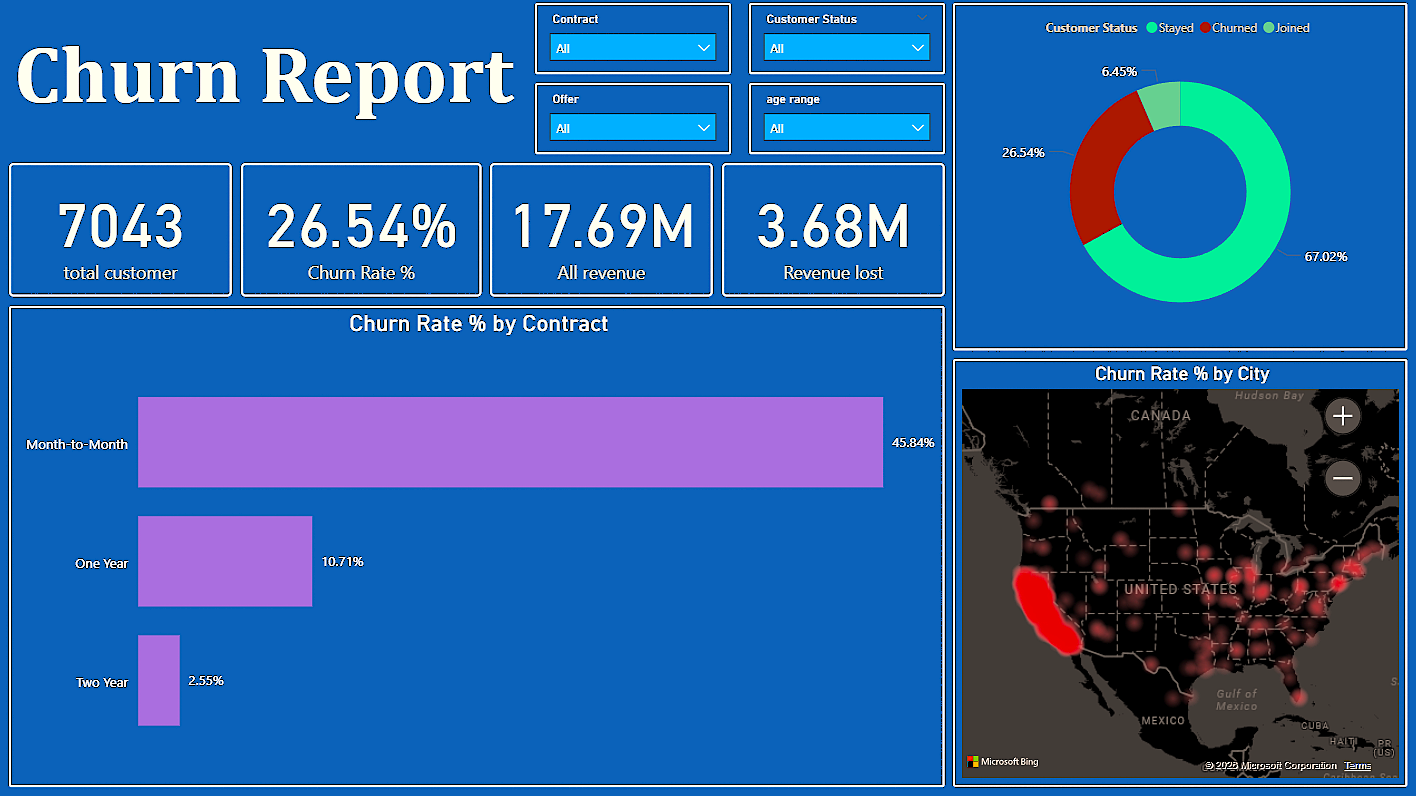

This screenshot's page, from the dashboard's own definition file:
{"tool":"powerbi","page":{"name":"Executive overview","canvas":[1280,720],"ordinal":0},"visuals":[{"type":"card","fields":{"Values":["telecom_customer_churn.total customer"]},"box":[8,152,200,120],"z":0},{"type":"card","fields":{"Values":["telecom_customer_churn.Churn Rate %"]},"box":[216,152,216,120],"z":1000},{"type":"card","fields":{"Values":["telecom_customer_churn.All revenue"]},"box":[440,152,200,120],"z":2000},{"type":"card","fields":{"Values":["telecom_customer_churn.Revenue lost"]},"box":[648,152,200,120],"z":3000},{"type":"donutChart","fields":{"Category":["telecom_customer_churn.Customer Status"],"Y":["telecom_customer_churn.total customer"]},"box":[856,8,408,312],"z":4000},{"type":"barChart","fields":{"Category":["telecom_customer_churn.Contract"],"Y":["telecom_customer_churn.Churn Rate %"]},"box":[8,280,840,432],"z":5000},{"type":"map","fields":{"Category":["telecom_customer_churn.City"],"Size":["telecom_customer_churn.Churn Rate %"]},"box":[856,328,408,384],"z":6000},{"type":"slicer","fields":{"Values":["telecom_customer_churn.Customer Status"]},"box":[672,8,176,64],"z":7000},{"type":"slicer","fields":{"Values":["telecom_customer_churn.Contract"]},"box":[480,8,176,64],"z":8000},{"type":"slicer","fields":{"Values":["telecom_customer_churn.Offer"]},"box":[480,80,176,64],"z":9000},{"type":"slicer","fields":{"Values":["telecom_customer_churn.age range"]},"box":[672,80,176,64],"z":10000},{"type":"textbox","box":[8,24,464,112],"z":11000}]}

Visuals, with their boxes in screenshot pixels (x1, y1, x2, y2), scaled from the page's 1280x720 canvas onto the 1416x796 screenshot:
card - telecom_customer_churn.total customer: locate(9, 168, 230, 301)
card - telecom_customer_churn.Churn Rate %: locate(239, 168, 478, 301)
card - telecom_customer_churn.All revenue: locate(487, 168, 708, 301)
card - telecom_customer_churn.Revenue lost: locate(717, 168, 938, 301)
donutChart - telecom_customer_churn.Customer Status x telecom_customer_churn.total customer: locate(947, 9, 1398, 354)
barChart - telecom_customer_churn.Contract x telecom_customer_churn.Churn Rate %: locate(9, 310, 938, 787)
map - telecom_customer_churn.City x telecom_customer_churn.Churn Rate %: locate(947, 363, 1398, 787)
slicer - telecom_customer_churn.Customer Status: locate(743, 9, 938, 80)
slicer - telecom_customer_churn.Contract: locate(531, 9, 726, 80)
slicer - telecom_customer_churn.Offer: locate(531, 88, 726, 159)
slicer - telecom_customer_churn.age range: locate(743, 88, 938, 159)
textbox: locate(9, 27, 522, 150)
